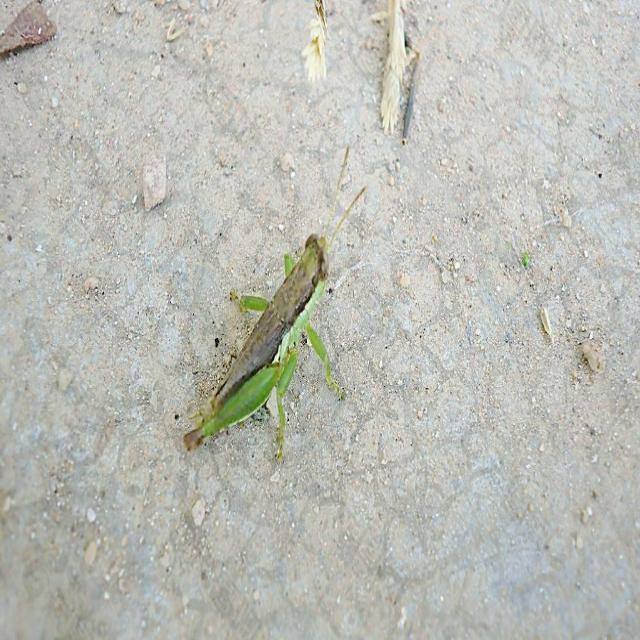ZhaMeng: (174, 186, 374, 471)
